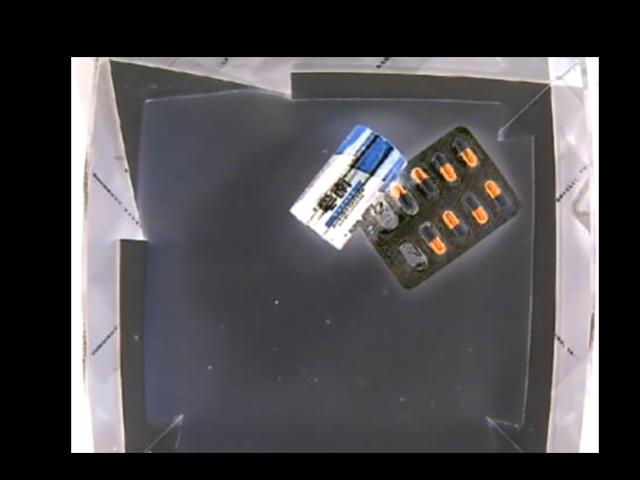Battery: (288, 124, 404, 252)
Medicine: (354, 123, 518, 288)
